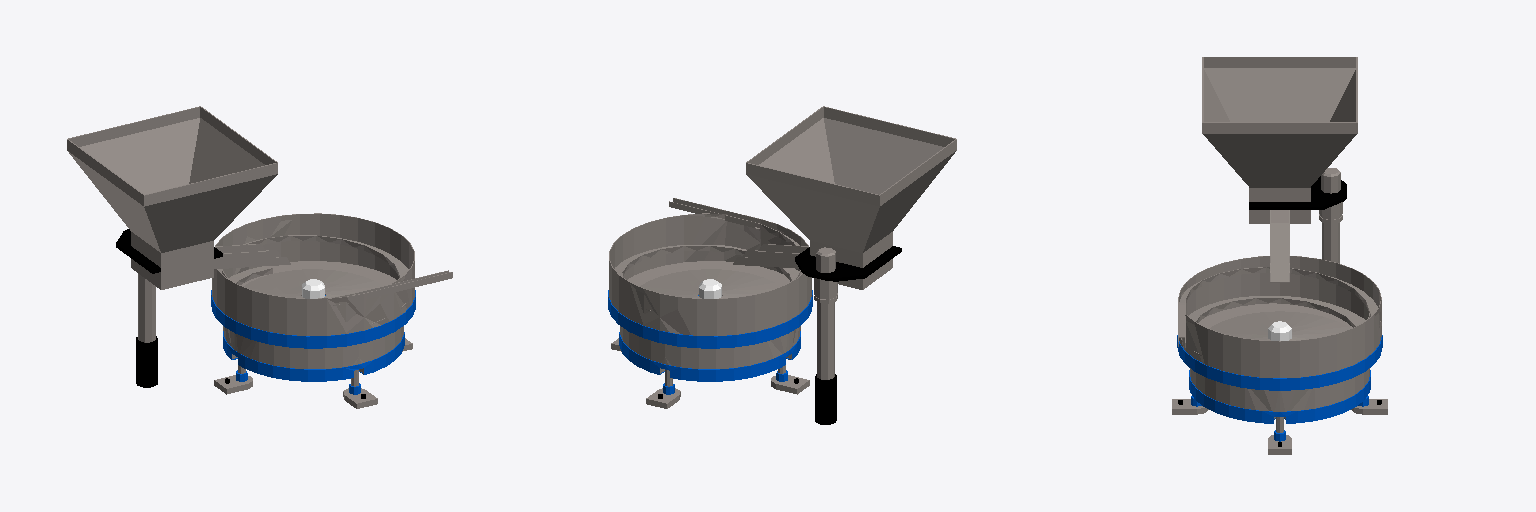
The model's file is Vibrating_Bowl_Wing.obj.
The picture shows the model from 3 angles: view 1: azimuth 30°, elevation 25°; view 2: azimuth 150°, elevation 25°; view 3: azimuth 270°, elevation 25°; orthographic projection.
Parts seen in each view (by area): view 1: _[number redacted]; view 2: _[number redacted]; view 3: _[number redacted].
Part boxes in pixels (bbox=[...]): _[number redacted]: bbox=[67, 106, 452, 408]; _[number redacted]: bbox=[608, 106, 956, 424]; _[number redacted]: bbox=[1172, 57, 1387, 454].
Bounding box in the file's own units: 854 × 680 × 528.